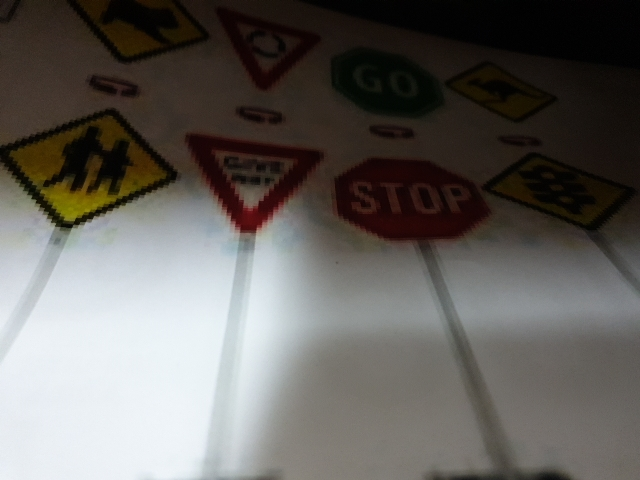giveway: (194, 134, 326, 225)
stop: (338, 153, 493, 250)
